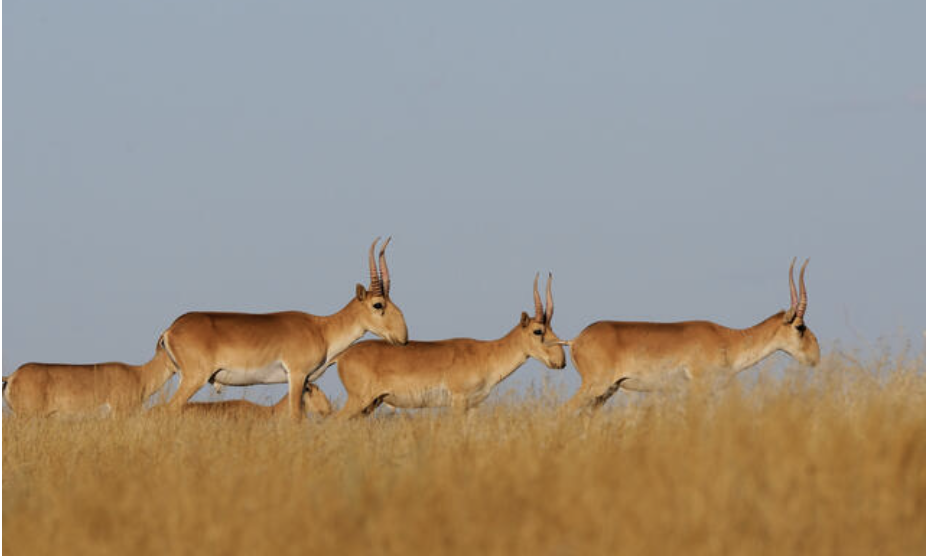saiga: (150, 223, 408, 426), (559, 272, 818, 433), (341, 280, 562, 437)
